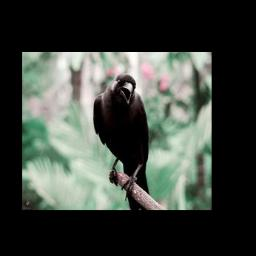Crow: (93, 72, 151, 209)
